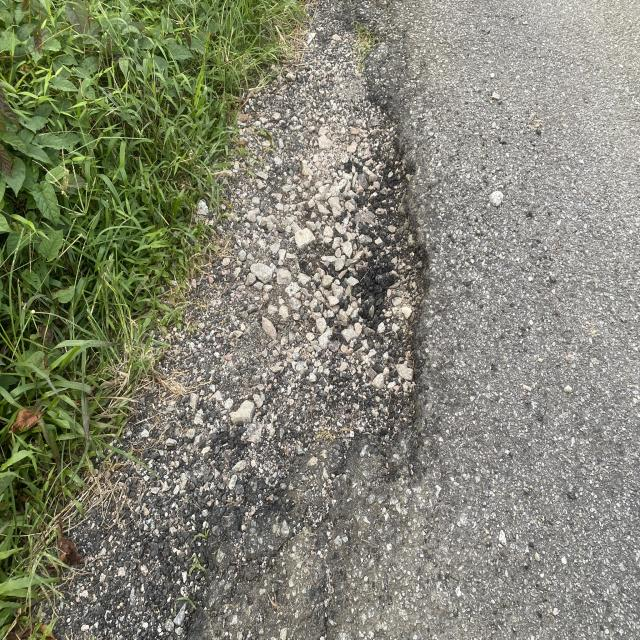Pothole: (321, 81, 513, 557)
